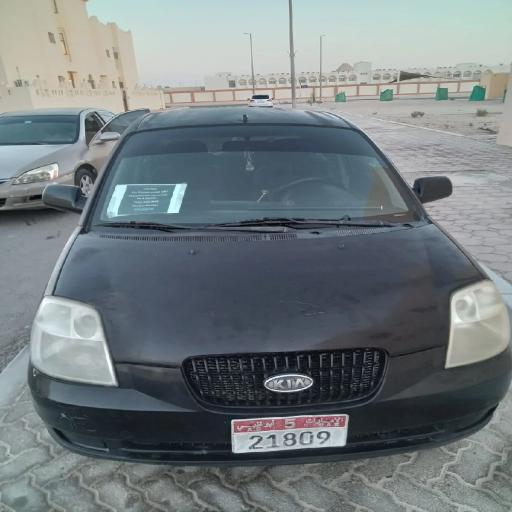license-plates: (233, 415, 348, 453)
